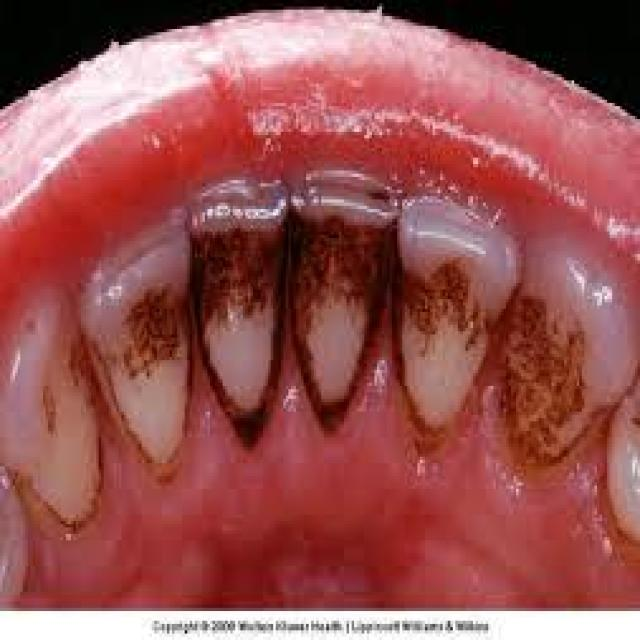tooth-discoloration: (511, 228, 637, 460), (397, 196, 511, 444), (81, 215, 187, 470), (291, 174, 395, 425), (190, 180, 286, 441)
